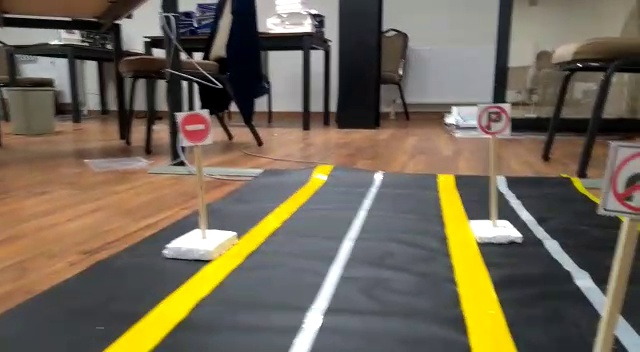girisi_olmayan_yol: (177, 111, 208, 145)
park_yapilmaz: (475, 104, 510, 136)
saga_donulmez: (600, 140, 640, 216)
